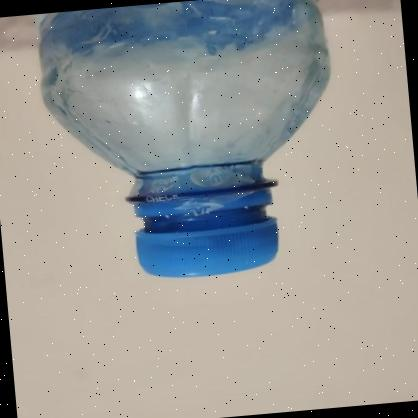bottle: (24, 0, 336, 305)
cap: (108, 168, 292, 292)
